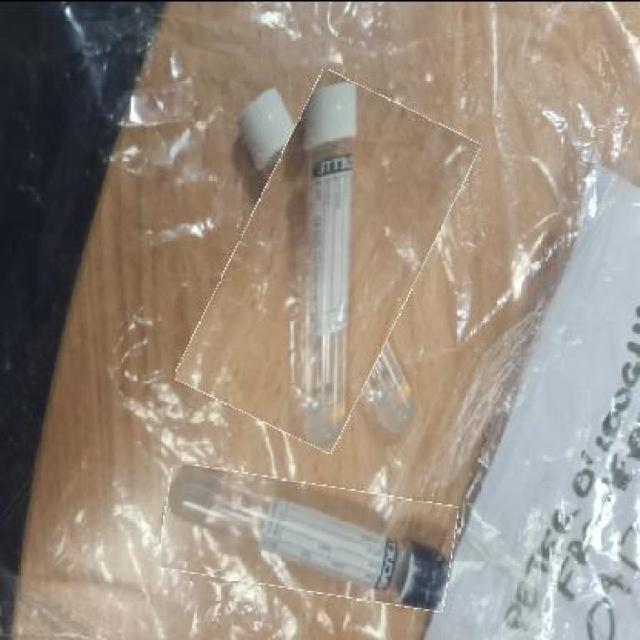Experimental-tube: (206, 76, 449, 442), (160, 472, 455, 600)
